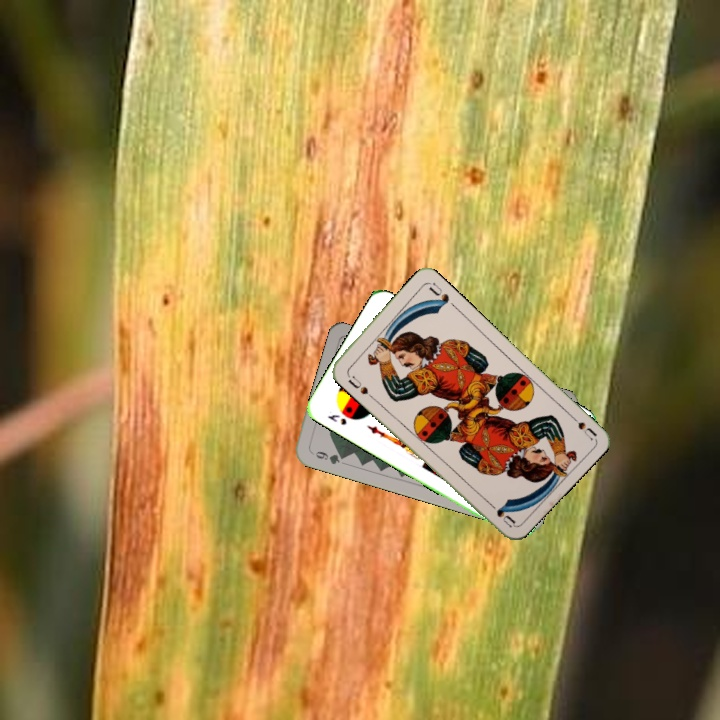G9: (308, 447, 349, 467)
SK: (324, 410, 349, 428)
SU: (564, 408, 598, 441), (344, 372, 375, 401)
